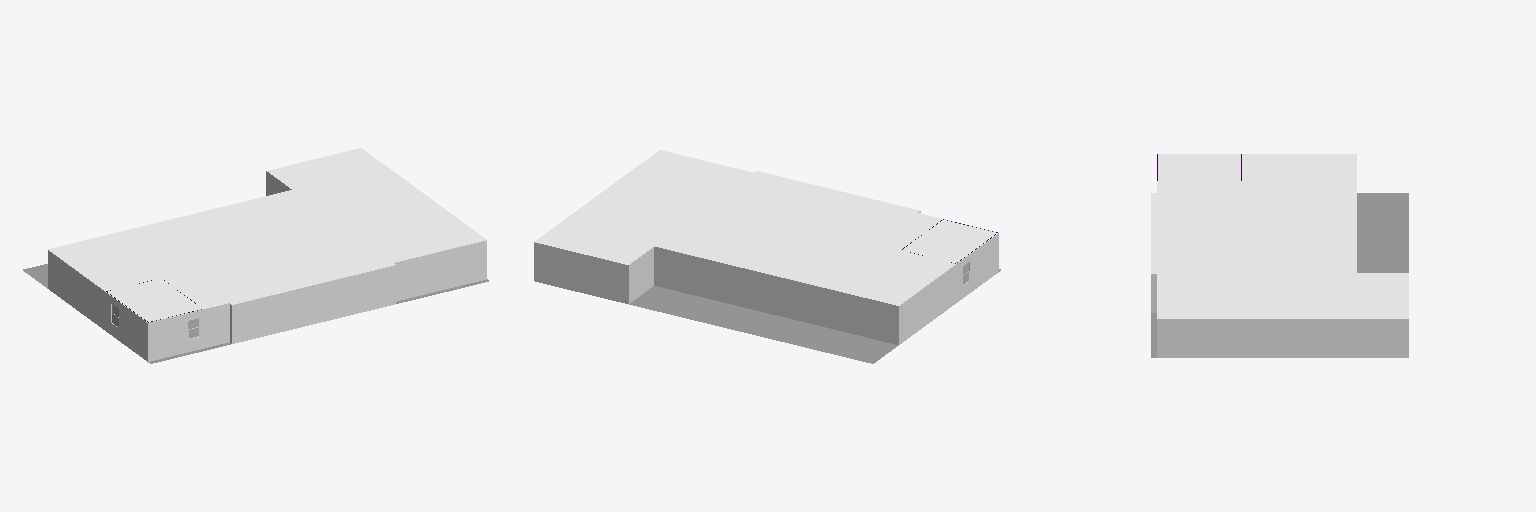
Rendered from floorplan.obj.
3 views of the same model, side by side, from view 1: azimuth 30°, elevation 25°; view 2: azimuth 150°, elevation 25°; view 3: azimuth 270°, elevation 25° (orthographic).
Parts seen in each view (by area): view 1: room_50_261, room_52_265, room_54_269, room_45_251, room_53_267, room_49_259, wall_20_119, wall_28_161, room_44_249, wall_32_184, room_47_255, wall_3_16 (+9 smaller); view 2: room_50_261, ground_1, room_52_265, room_54_269, wall_34_197, wall_36_209, room_45_251, wall_8_46, room_49_259, room_53_267, room_44_249, room_47_255 (+8 smaller); view 3: wall_35_203, room_50_261, room_52_265, ground_1, room_54_269, room_45_251, room_53_267, room_49_259, room_44_249, room_47_255, room_48_257, room_46_253 (+1 smaller).
Part boxes in pixels (x1,y1,x2,y2): room_50_261: (199,149,414,245); room_52_265: (336,197,484,261); room_54_269: (96,224,348,290); room_45_251: (50,233,162,282); room_53_267: (295,232,393,279); room_49_259: (189,260,295,303); wall_20_119: (232,289,298,343); wall_28_161: (331,265,395,319); room_44_249: (108,278,202,321); wall_32_184: (427,240,486,293); room_47_255: (120,221,211,265); wall_3_16: (148,309,204,361); room_50_261: (536,202,793,268); ground_1: (629,269,1000,363); room_52_265: (603,151,751,215); room_54_269: (702,187,953,271); wall_34_197: (654,247,748,308); wall_36_209: (534,242,628,303); room_45_251: (829,255,942,304); wall_8_46: (828,289,898,344); room_49_259: (819,196,917,242); room_53_267: (713,172,819,215); room_44_249: (902,220,996,262); room_47_255: (782,244,872,287); wall_35_203: (1157,319,1408,357); room_50_261: (1265,227,1406,318); room_52_265: (1158,273,1274,318); ground_1: (1151,193,1408,357); room_54_269: (1153,154,1263,272); room_45_251: (1265,154,1355,187); room_53_267: (1153,242,1240,272); room_49_259: (1153,194,1240,224); room_44_249: (1158,154,1240,180); room_47_255: (1265,188,1355,210); room_48_257: (1265,212,1355,225); room_46_253: (1158,181,1240,192).
Bounding box in the file's own units: 2210 × 244 × 1453.